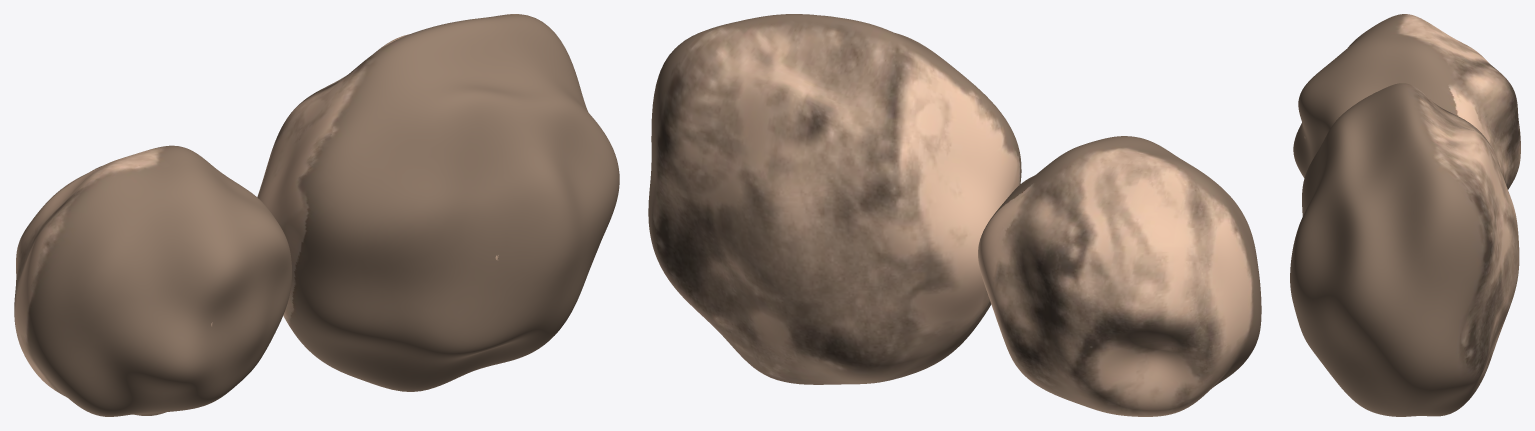
The model's file is asteroid-arrokoth.glb.
3 views of the same model, side by side, from view 1: azimuth 30°, elevation 25°; view 2: azimuth 150°, elevation 25°; view 3: azimuth 270°, elevation 25° (orthographic). The views are drawn at different scales.
Parts seen in each view (by area): view 1: asteroid-arrokoth; view 2: asteroid-arrokoth; view 3: asteroid-arrokoth.
Boxes of the visible parts, bbox=[...] form: asteroid-arrokoth: bbox=[14, 14, 619, 416]; asteroid-arrokoth: bbox=[648, 14, 1261, 416]; asteroid-arrokoth: bbox=[1290, 14, 1520, 416].
Size of the model in its own units: 34.55 by 19.84 by 13.82.
1 material, 1 textured.
